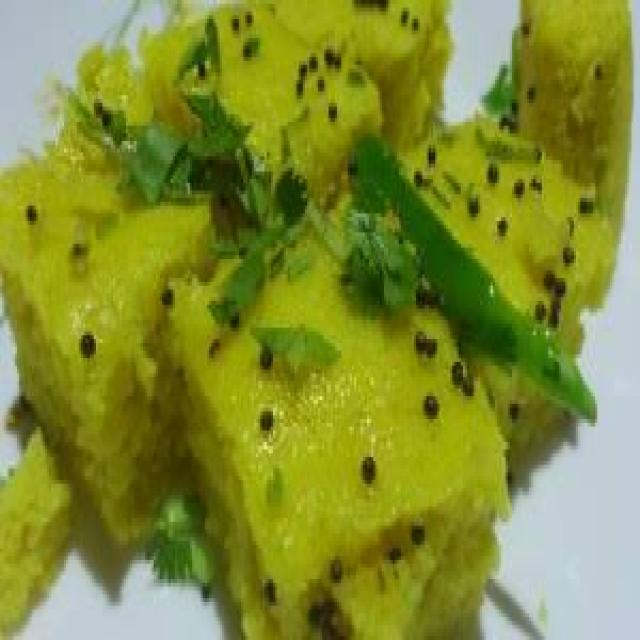DHOKLA: (0, 0, 634, 636)
